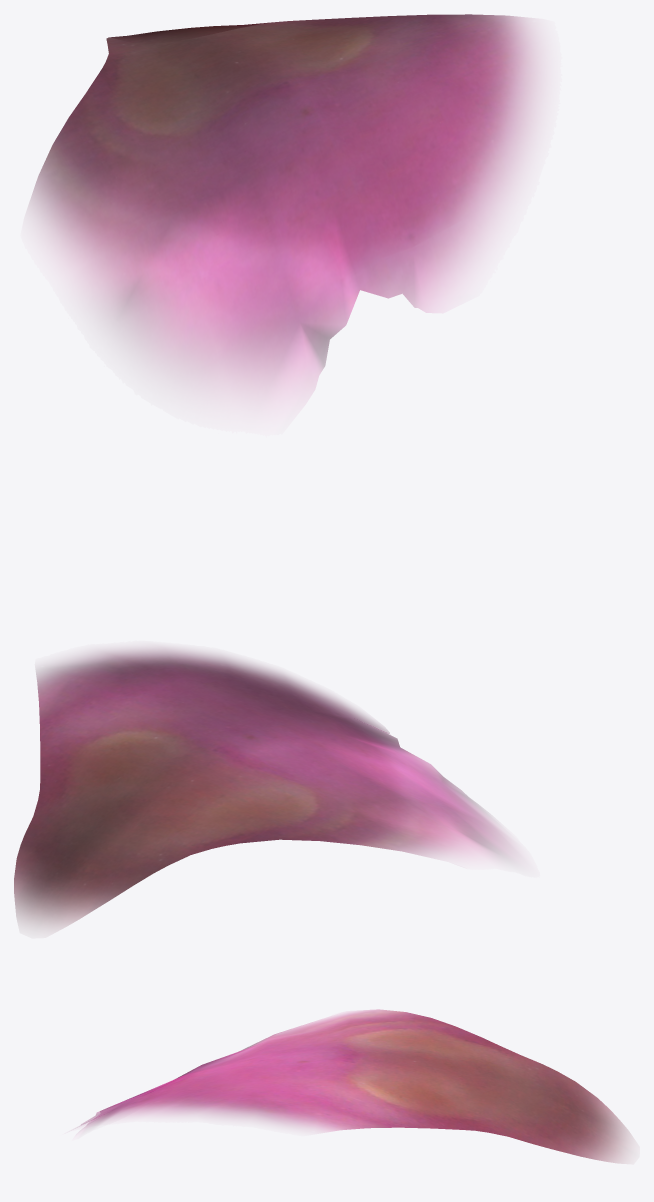
The model's file is flower2.glb.
3 renders of one model, top to bottom at view 1: azimuth 30°, elevation 25°; view 2: azimuth 150°, elevation 25°; view 3: azimuth 270°, elevation 25°, orthographic. The views are drawn at different scales.
Parts seen in each view (by area): view 1: 넓적세모 (Copy); view 2: 넓적세모 (Copy); view 3: 넓적세모 (Copy).
Part boxes in pixels (bbox=[...]): 넓적세모 (Copy): bbox=[29, 14, 540, 398]; 넓적세모 (Copy): bbox=[14, 648, 515, 928]; 넓적세모 (Copy): bbox=[77, 1009, 630, 1162].
Bounding box in the file's own units: 39.8 × 21.81 × 45.15.
1 material, 1 textured.
